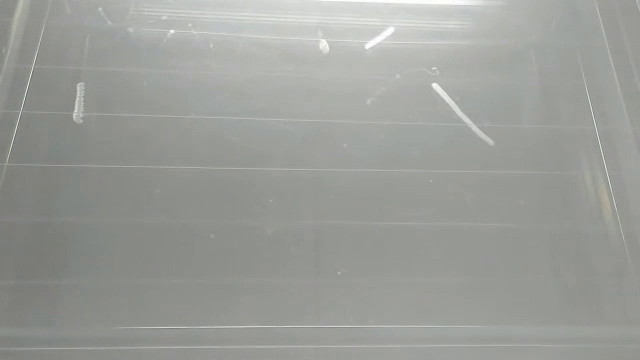alpha: (428, 80, 498, 150), (362, 24, 399, 53), (71, 78, 88, 128), (314, 35, 334, 58)
